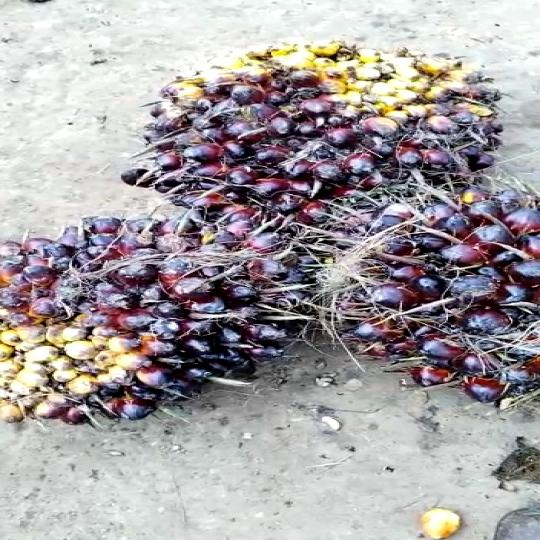kurang masak: (0, 205, 305, 428), (139, 50, 510, 197), (315, 191, 540, 425)
